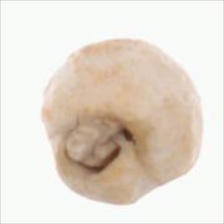L3: (58, 111, 138, 172)
L4: (42, 38, 203, 206)
